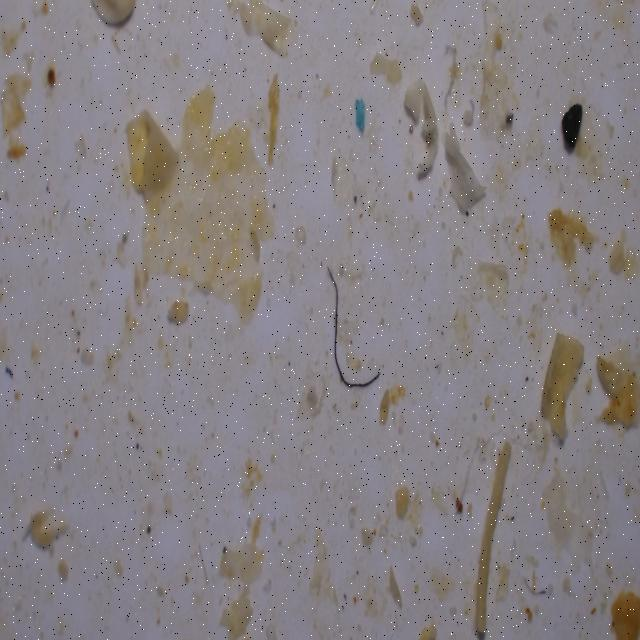Fibre: (316, 258, 388, 394)
Fragment: (548, 96, 598, 164), (349, 89, 378, 141)
